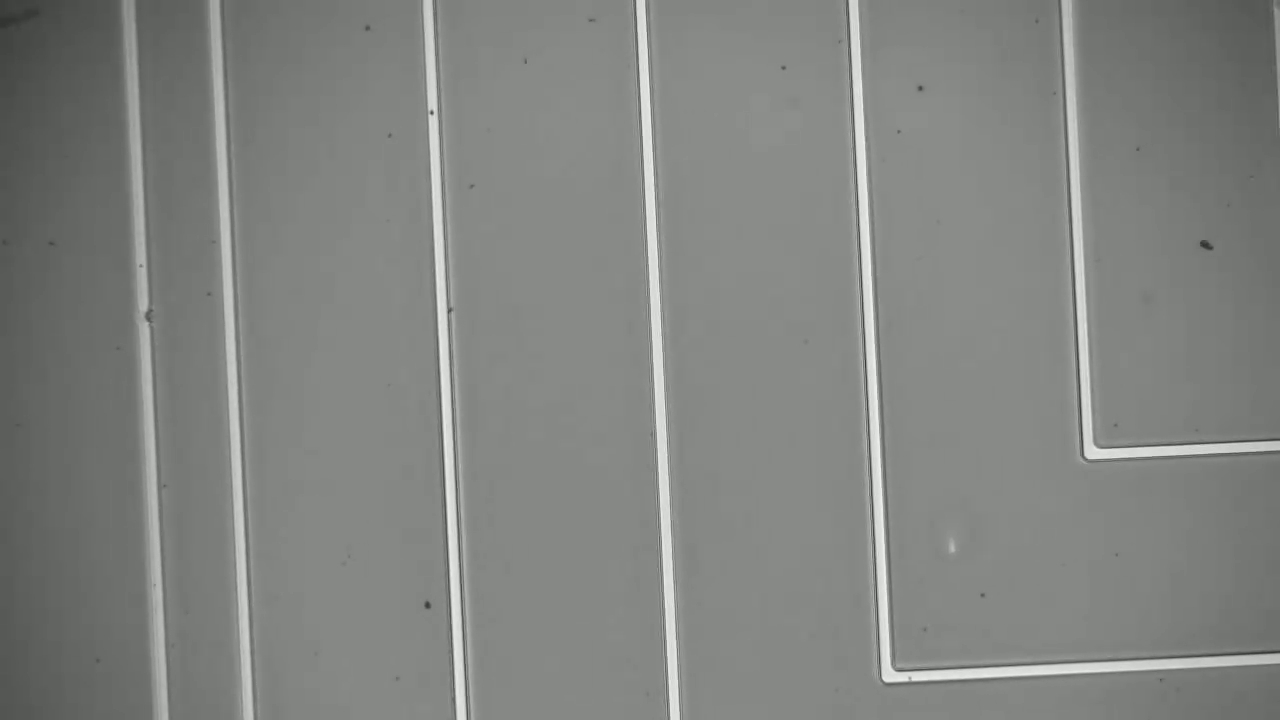stains_enbedded: (128, 301, 164, 335)
